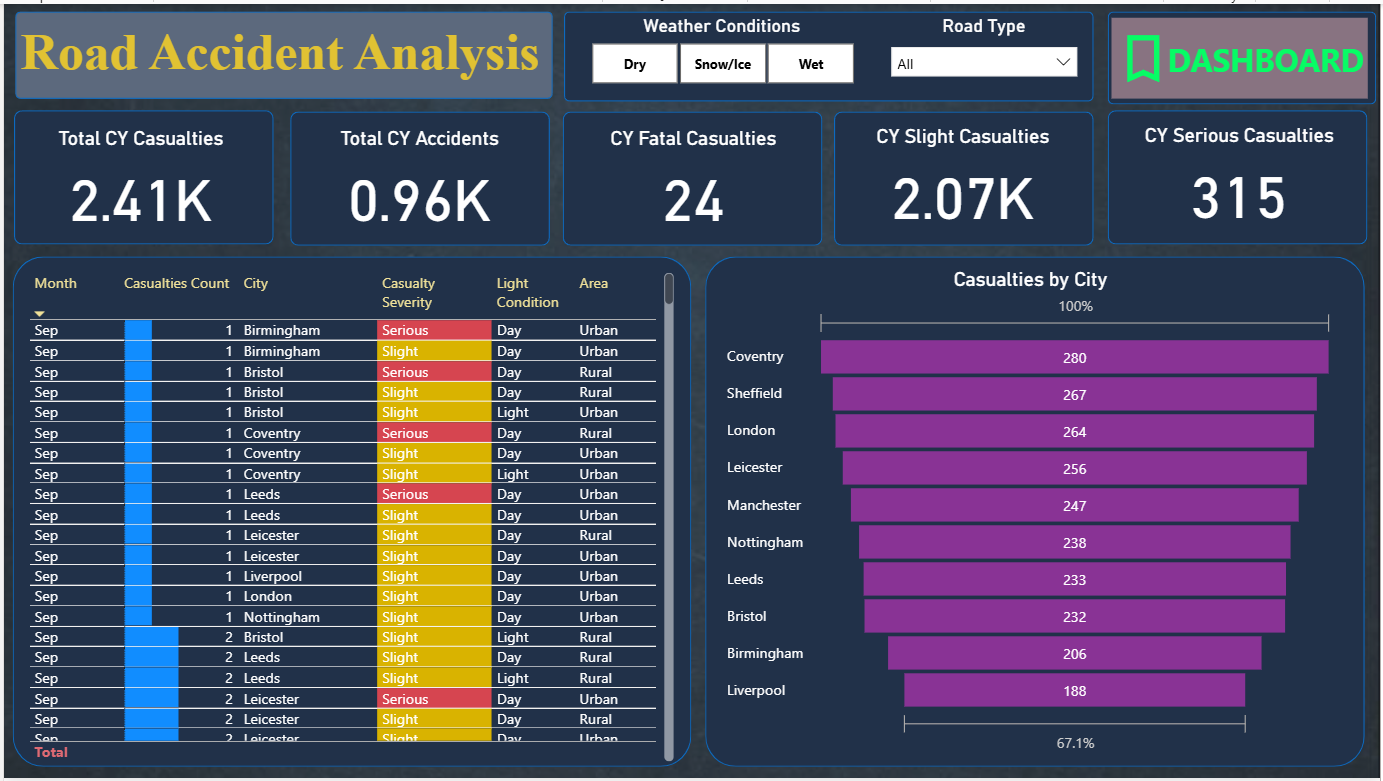

The dashboard page shown, as its layout file describes it:
{"tool":"powerbi","page":{"name":"Dashboard","canvas":[1280,720],"ordinal":0},"visuals":[{"type":"shape","box":[10,7.1,500,81.2],"z":0},{"type":"shape","box":[9.6,99.2,241.5,124.9],"z":1000},{"type":"shape","box":[266.2,100.5,241.5,124.9],"z":2000},{"type":"shape","box":[520.1,100.5,241.5,124.9],"z":3000},{"type":"shape","box":[772.6,100.5,241.5,124.9],"z":4000},{"type":"shape","box":[1026.4,99.2,241.5,124.9],"z":5000},{"type":"shape","box":[9,233,240.9,410],"z":6000},{"type":"shape","box":[266.2,234.6,450.1,227.8],"z":7000},{"type":"shape","box":[266.2,472,450.1,237.4],"z":8000},{"type":"shape","box":[727.3,234.6,247,227.8],"z":9000},{"type":"shape","box":[727.3,472,247,237.4],"z":10000},{"type":"shape","box":[983.9,234.6,284,474.8],"z":11000},{"type":"card","title":"Total CY Casualties","fields":{"Values":["Table.Total CY Casualities"]},"box":[41.2,113.9,174.3,98.8],"z":12000},{"type":"card","title":"CY Fatal Casualties","fields":{"Values":["Table.Fatal casuality"]},"box":[554.4,113.9,174.3,98.8],"z":13000},{"type":"card","title":"CY Slight Casualties","fields":{"Values":["Table.Slight casuality"]},"box":[804.1,112.5,175.6,98.8],"z":14000},{"type":"card","title":"CY Serious Casualties","fields":{"Values":["Table.Serious casuality"]},"box":[1056.6,111.1,185.2,98.8],"z":15000},{"type":"card","title":"Total CY Accidents","fields":{"Values":["Table.Total CY Accidents"]},"box":[300.5,113.9,174.3,98.8],"z":16000},{"type":"card","title":"Agricultural CY","fields":{"Values":["Table.Agricultural CY"]},"box":[115.3,269,122.1,59],"z":17000},{"type":"textbox","box":[17.1,234.8,220.9,39.9],"z":18000},{"type":"card","title":"Bike CY","fields":{"Values":["Table.Bike CY"]},"box":[115.5,333.1,122.6,58.4],"z":19000},{"type":"card","title":"Bus CY","fields":{"Values":["Table.Bus CY"]},"box":[115.5,398.7,122.6,58.4],"z":20000},{"type":"card","title":"Car CY","fields":{"Values":["Table.Car CY"]},"box":[115.5,464.3,122.6,58.4],"z":21000},{"type":"card","title":"Other CY","fields":{"Values":["Table.Other CY"]},"box":[115.5,522.7,122.6,58.4],"z":22000},{"type":"shape","box":[8.6,648.6,239.5,61.3],"z":23000},{"type":"textbox","box":[11,13,499,68.4],"z":24000},{"type":"shape","box":[521.4,6.9,492.6,83.7],"z":25000},{"type":"shape","box":[1026.4,6.9,249.7,86.4],"z":26000},{"type":"lineChart","title":"Casualties by Month","fields":{"Category":["Accident_data.Month"],"Y":["Sum(Accident_data.Casualties Count)"]},"box":[276.5,240.9,431.9,222.4],"z":27000},{"type":"barChart","title":"Casualties by Road Type","fields":{"Y":["Sum(Accident_data.Casualties Count)"],"Category":["Accident_data.Road Type"]},"box":[276.5,478.9,431.9,222.4],"z":28000},{"type":"pieChart","title":"Casualties by Rural/Urban","fields":{"Y":["Sum(Accident_data.Casualties Count)"],"Series":["Accident_data.Area"]},"box":[734.1,239.5,235.2,218.1],"z":29000},{"type":"donutChart","title":"Casualties by Light Condition","fields":{"Y":["Sum(Accident_data.Casualties Count)"],"Category":["Accident_data.Light Condition"]},"box":[734.1,478.9,235.2,222.4],"z":30000},{"type":"azureMap","title":"Casualties by City","fields":{"Category":["Accident_data.City"],"Size":["Sum(Accident_data.Casualties Count)"]},"box":[994.9,246.6,268,454.7],"z":31000},{"type":"card","title":"Van CY","fields":{"Values":["Table.Van CY"]},"box":[115.5,581.1,122.6,58.4],"z":32000},{"type":"slicer","title":"Road Type","fields":{"Values":["Accident_data.Road Type"]},"box":[815,11,193,64.5],"z":33000},{"type":"slicer","title":"Weather Conditions","fields":{"Values":["Accident_data.Weather Condition"]},"box":[521.4,11,293.7,70],"z":34000},{"type":"actionButton","box":[16.3,653.5,220.9,52.3],"z":35000},{"type":"actionButton","box":[1026.6,9.6,111.7,75.6],"z":36000},{"type":"actionButton","box":[1161.1,16.8,99.7,64.8],"z":37000},{"type":"image","box":[10.8,267.8,116.5,366.2],"z":38000}]}

Visuals, with their boxes in screenshot pixels (x1, y1, x2, y2), scaled from the page's 1280x720 canvas onto the 1383x781 screenshot:
shape: left=11, top=8, right=551, bottom=96
shape: left=10, top=108, right=271, bottom=243
shape: left=288, top=109, right=549, bottom=244
shape: left=562, top=109, right=823, bottom=244
shape: left=835, top=109, right=1096, bottom=244
shape: left=1109, top=108, right=1370, bottom=243
shape: left=10, top=253, right=270, bottom=697
shape: left=288, top=254, right=774, bottom=502
shape: left=288, top=512, right=774, bottom=770
shape: left=786, top=254, right=1053, bottom=502
shape: left=786, top=512, right=1053, bottom=770
shape: left=1063, top=254, right=1370, bottom=770
"Total CY Casualties" card: left=45, top=124, right=233, bottom=231
"CY Fatal Casualties" card: left=599, top=124, right=787, bottom=231
"CY Slight Casualties" card: left=869, top=122, right=1059, bottom=229
"CY Serious Casualties" card: left=1142, top=121, right=1342, bottom=228
"Total CY Accidents" card: left=325, top=124, right=513, bottom=231
"Agricultural CY" card: left=125, top=292, right=257, bottom=356
textbox: left=18, top=255, right=257, bottom=298
"Bike CY" card: left=125, top=361, right=257, bottom=425
"Bus CY" card: left=125, top=432, right=257, bottom=496
"Car CY" card: left=125, top=504, right=257, bottom=567
"Other CY" card: left=125, top=567, right=257, bottom=630
shape: left=9, top=704, right=268, bottom=770
textbox: left=12, top=14, right=551, bottom=88
shape: left=563, top=7, right=1096, bottom=98
shape: left=1109, top=7, right=1379, bottom=101
"Casualties by Month" lineChart: left=299, top=261, right=765, bottom=503
"Casualties by Road Type" barChart: left=299, top=519, right=765, bottom=761
"Casualties by Rural/Urban" pieChart: left=793, top=260, right=1047, bottom=496
"Casualties by Light Condition" donutChart: left=793, top=519, right=1047, bottom=761
"Casualties by City" azureMap: left=1075, top=267, right=1365, bottom=761
"Van CY" card: left=125, top=630, right=257, bottom=694
"Road Type" slicer: left=881, top=12, right=1089, bottom=82
"Weather Conditions" slicer: left=563, top=12, right=881, bottom=88
actionButton: left=18, top=709, right=256, bottom=766
actionButton: left=1109, top=10, right=1230, bottom=92
actionButton: left=1255, top=18, right=1362, bottom=89
image: left=12, top=290, right=138, bottom=688
